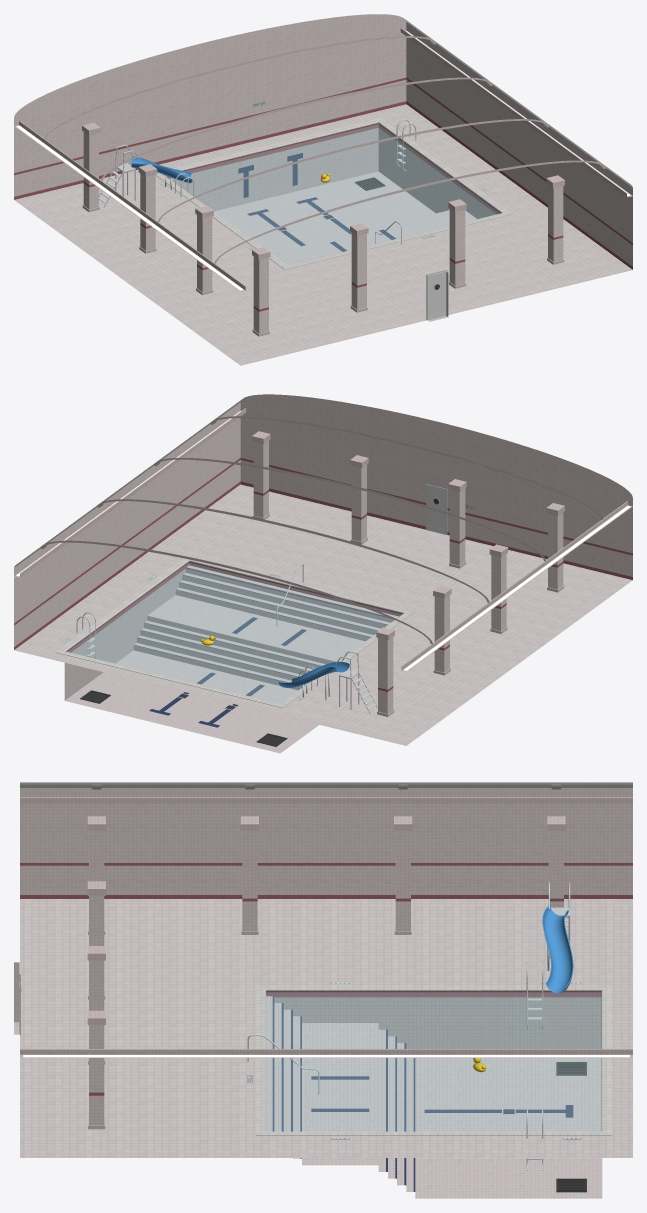
Rendered from sub_pool_08.glb.
3 renders of one model, top to bottom at view 1: azimuth 30°, elevation 25°; view 2: azimuth 150°, elevation 25°; view 3: azimuth 270°, elevation 25°, orthographic. The views are drawn at different scales.
Visible parts, largest first — view 1: Tile_Wall, Tile_Deck, Pool_Water, Tile_Pool, Tile_Trim, Tile_Accent, Tile_Lip, Chrome, Lamp_Emit, Tile_Lane, DoorLeaf_atrium, Slide_Blue (+1 smaller); view 2: Tile_Wall, Tile_Deck, Tile_Pool, Pool_Water, Tile_Trim, Tile_Accent, Tile_Lip, Tile_Lane, Chrome, Lamp_Emit, DoorLeaf_atrium, Slide_Blue (+2 smaller); view 3: Tile_Deck, Tile_Wall, Tile_Pool, Pool_Water, Tile_Trim, Tile_Lip, Tile_Accent, Ceiling_Paint, Tile_Lane, Slide_Blue, Lamp_Emit, Chrome (+1 smaller).
Boxes of the visible parts, x1,y1,x2,y2 form: Tile_Wall: (14,14,632,333); Tile_Deck: (14,104,632,365); Pool_Water: (166,124,499,264); Tile_Pool: (169,128,496,265); Tile_Trim: (14,28,632,336); Tile_Accent: (14,77,632,311); Tile_Lip: (156,118,511,269); Chrome: (99,119,416,244); Lamp_Emit: (16,31,630,290); Tile_Lane: (238,153,395,251); DoorLeaf_atrium: (427,271,446,320); Slide_Blue: (131,156,192,183); Tile_Wall: (14,394,632,713); Tile_Deck: (14,484,632,745); Tile_Pool: (64,565,398,753); Pool_Water: (68,563,401,703); Tile_Trim: (14,408,632,716); Tile_Accent: (14,458,632,691); Tile_Lip: (55,556,413,707); Tile_Lane: (134,567,387,727); Chrome: (76,563,377,714); Lamp_Emit: (16,411,630,670); DoorLeaf_atrium: (427,486,445,534); Slide_Blue: (278,661,349,687); Tile_Deck: (14,899,632,1157); Tile_Wall: (14,788,632,1125); Tile_Pool: (266,996,602,1198); Pool_Water: (266,992,601,1131); Tile_Trim: (20,784,632,1129); Tile_Lip: (256,985,611,1135); Tile_Accent: (20,863,632,1095); Ceiling_Paint: (20,782,632,787); Tile_Lane: (272,996,573,1191); Slide_Blue: (542,905,573,993); Lamp_Emit: (23,1055,629,1057); Chrome: (246,882,570,1170).
Bounding box in the file's own units: 20 × 7.8 × 20.2.
18 materials, 10 textured.
